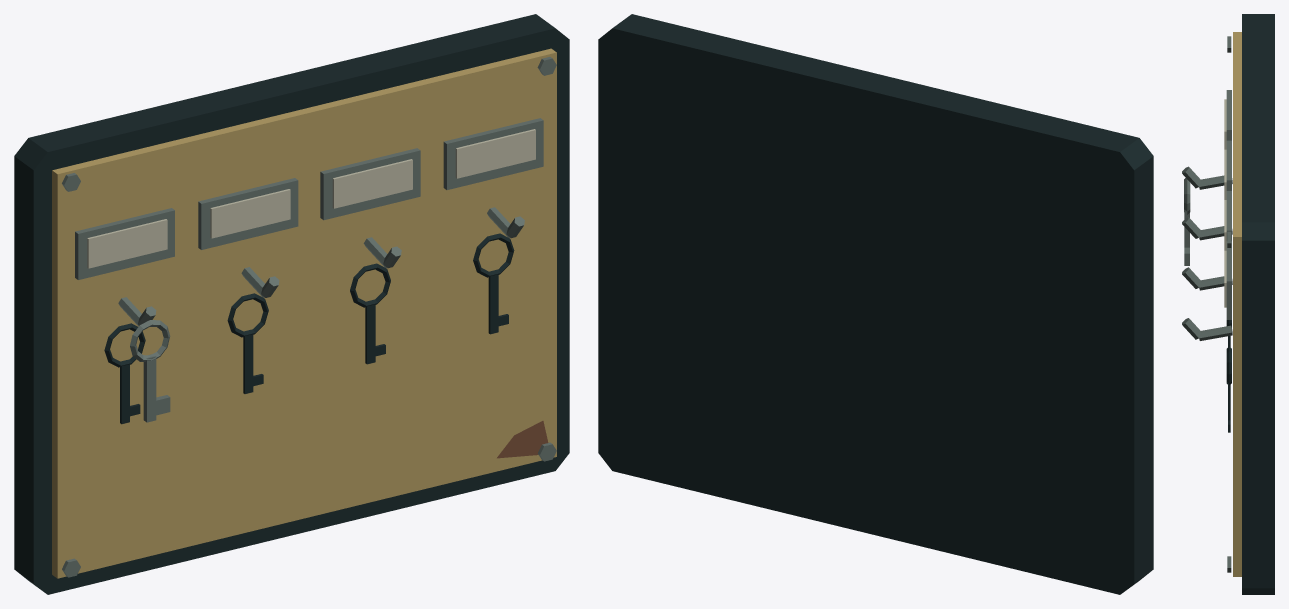
The model's file is key-hook-board.glb.
3 renders of one model, left to right at view 1: azimuth 30°, elevation 25°; view 2: azimuth 150°, elevation 25°; view 3: azimuth 270°, elevation 25°, orthographic. The views are drawn at different scales.
Parts seen in each view (by area): view 1: key-hook-board; view 2: key-hook-board; view 3: key-hook-board.
Part boxes in pixels (left/top/right/bottom): key-hook-board: left=14, top=14, right=569, bottom=594; key-hook-board: left=598, top=14, right=1153, bottom=594; key-hook-board: left=1182, top=14, right=1274, bottom=594.
Size of the model in its own units: 0.57 by 0.45 by 0.1017.
